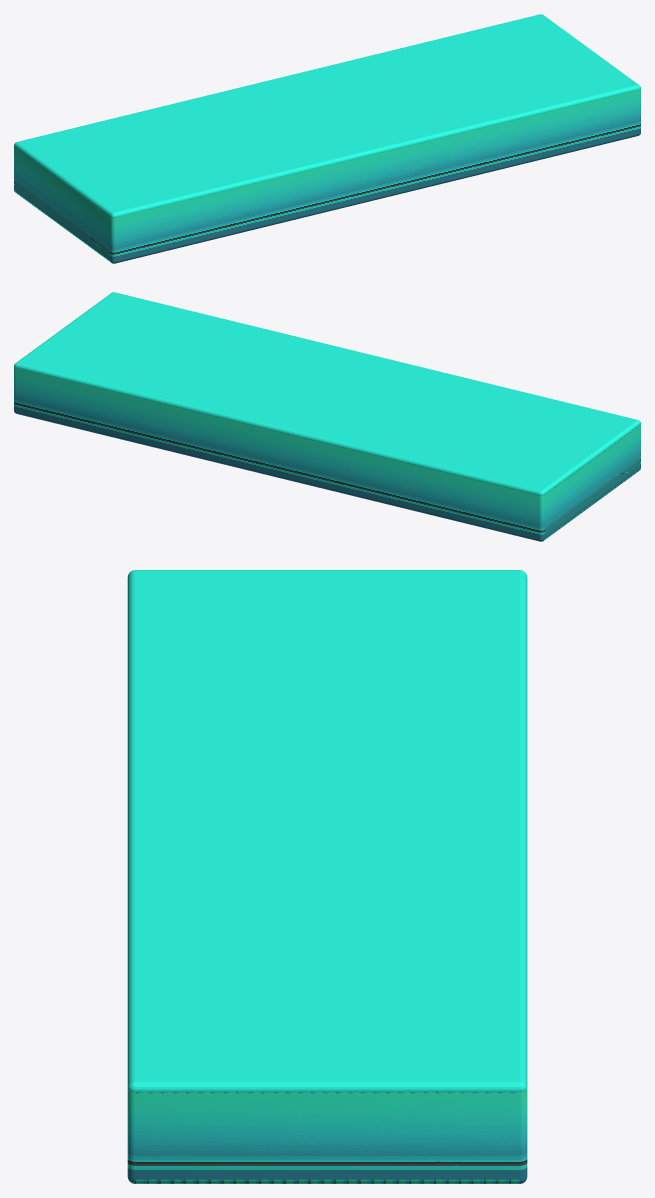
File: Nomal.fbx
3 renders of one model, top to bottom at view 1: azimuth 30°, elevation 25°; view 2: azimuth 150°, elevation 25°; view 3: azimuth 270°, elevation 25°, orthographic. The views are drawn at different scales.
Visible parts, largest first — view 1: up, front; view 2: up, front; view 3: up, front.
Boxes of the visible parts, bbox=[...] form: up: bbox=[14, 14, 640, 217]; front: bbox=[14, 89, 640, 263]; up: bbox=[14, 292, 640, 495]; front: bbox=[14, 367, 640, 541]; up: bbox=[127, 570, 527, 1092]; front: bbox=[127, 1089, 527, 1183].
Size of the model in its own units: 830 by 76.16 by 271.
Materials: 2 (1 with a texture image).
